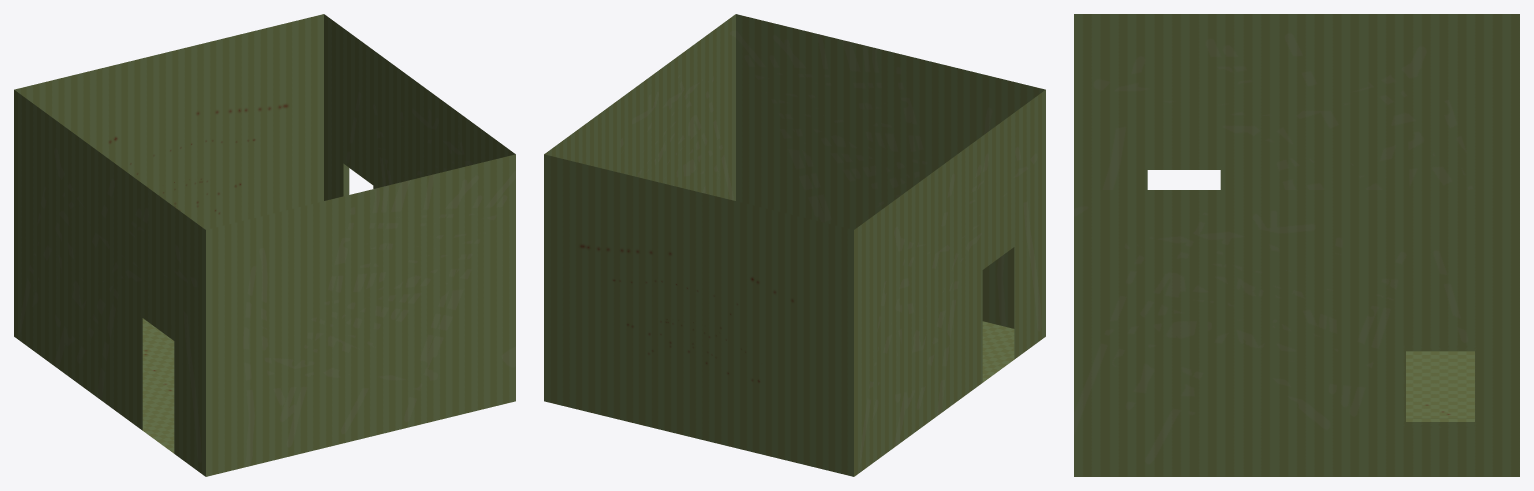
Rendered from room_walls.glb.
3 renders of one model, left to right at view 1: azimuth 30°, elevation 25°; view 2: azimuth 150°, elevation 25°; view 3: azimuth 270°, elevation 25°, orthographic. The views are drawn at different scales.
Visible parts, largest first — view 1: floor_walls; view 2: floor_walls; view 3: floor_walls.
Boxes of the visible parts, x1,y1,x2,y2 form: floor_walls: (14,14,515,476); floor_walls: (544,14,1045,476); floor_walls: (1074,14,1519,476).
Bounding box in the file's own units: 2.68 × 2 × 2.81.
1 material, 1 textured.
